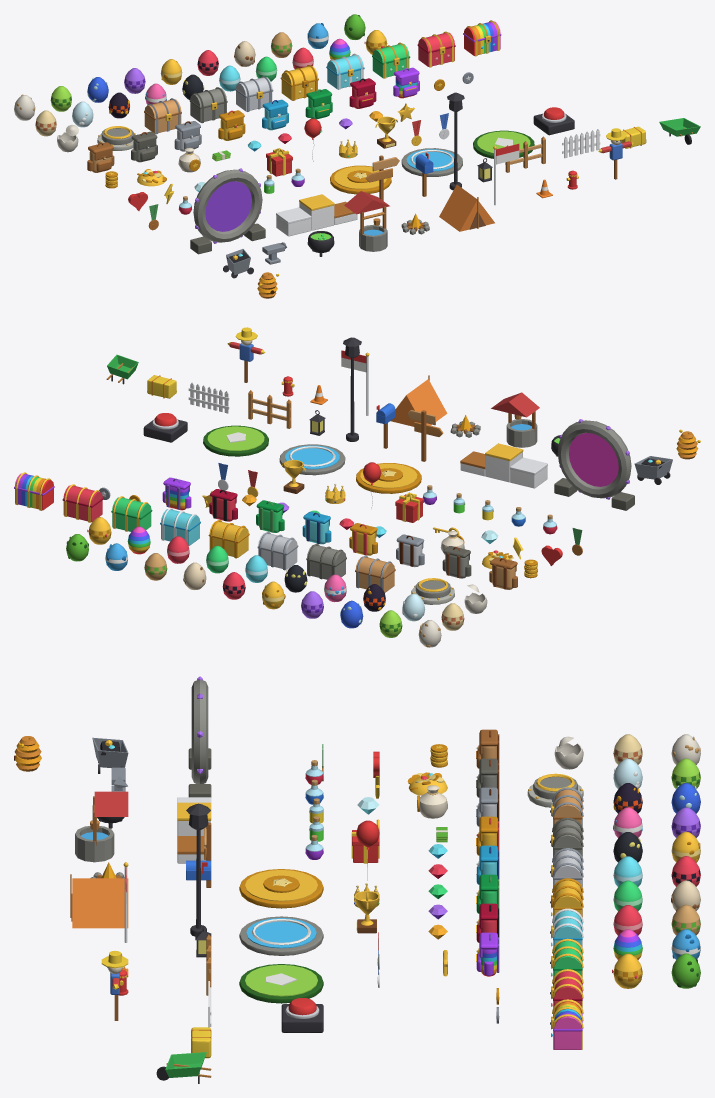
Rendered from Props.fbx.
3 views of the same model, one above another, from view 1: azimuth 30°, elevation 25°; view 2: azimuth 150°, elevation 25°; view 3: azimuth 270°, elevation 25° (orthographic). The views are drawn at different scales.
Visible parts, largest first — view 1: Portal, Podium, Well, Tent, SellPad, SpawnPad, RainbowChest, RubyChest, WoodChest, UpgradePad, StoneChest, IronChest (+33 smaller); view 2: Portal, Podium, UpgradePad, Well, SpawnPad, SellPad, Tent, RubyChest, RainbowChest, IronChest, EmeraldChest, StoneChest (+45 smaller); view 3: Tent, SpawnPad, SellPad, UpgradePad, Well, Portal, RainbowChest, Podium, BigButton, StreetLamp, Wheelbarrow, EggStand (+43 smaller).
Boxes of the visible parts, x1=… form: Portal: x1=190, y1=168, x2=265, y2=254; Podium: x1=276, y1=194, x2=357, y2=236; Well: x1=344, y1=191, x2=389, y2=251; Tent: x1=439, y1=184, x2=494, y2=231; SellPad: x1=330, y1=165, x2=391, y2=194; SpawnPad: x1=401, y1=148, x2=462, y2=176; RainbowChest: x1=463, y1=20, x2=501, y2=56; RubyChest: x1=417, y1=31, x2=455, y2=67; WoodChest: x1=144, y1=98, x2=181, y2=134; UpgradePad: x1=473, y1=130, x2=534, y2=158; StoneChest: x1=189, y1=87, x2=227, y2=123; IronChest: x1=235, y1=76, x2=273, y2=111; Portal: x1=554, y1=419, x2=634, y2=510; Podium: x1=460, y1=443, x2=547, y2=488; UpgradePad: x1=203, y1=425, x2=268, y2=456; Well: x1=491, y1=392, x2=539, y2=447; SpawnPad: x1=279, y1=444, x2=345, y2=475; SellPad: x1=356, y1=463, x2=421, y2=493; Tent: x1=390, y1=375, x2=447, y2=426; RubyChest: x1=62, y1=484, x2=103, y2=522; RainbowChest: x1=14, y1=472, x2=54, y2=510; IronChest: x1=257, y1=531, x2=298, y2=570; EmeraldChest: x1=111, y1=496, x2=152, y2=531; StoneChest: x1=306, y1=543, x2=346, y2=579; Tent: x1=70, y1=874, x2=128, y2=928; SpawnPad: x1=239, y1=916, x2=323, y2=955; SellPad: x1=239, y1=869, x2=323, y2=908; UpgradePad: x1=239, y1=964, x2=323, y2=1003; Well: x1=75, y1=791, x2=128, y2=862; Portal: x1=188, y1=676, x2=211, y2=797; RainbowChest: x1=550, y1=999, x2=583, y2=1049; Podium: x1=177, y1=797, x2=211, y2=863; BigButton: x1=281, y1=998, x2=323, y2=1032; StreetLamp: x1=186, y1=803, x2=210, y2=936; Wheelbarrow: x1=156, y1=1052, x2=211, y2=1083; EggStand: x1=527, y1=773, x2=583, y2=807.
Size of the model in its own units: 55.27 by 11.52 by 48.9.
1 material, 1 textured.
